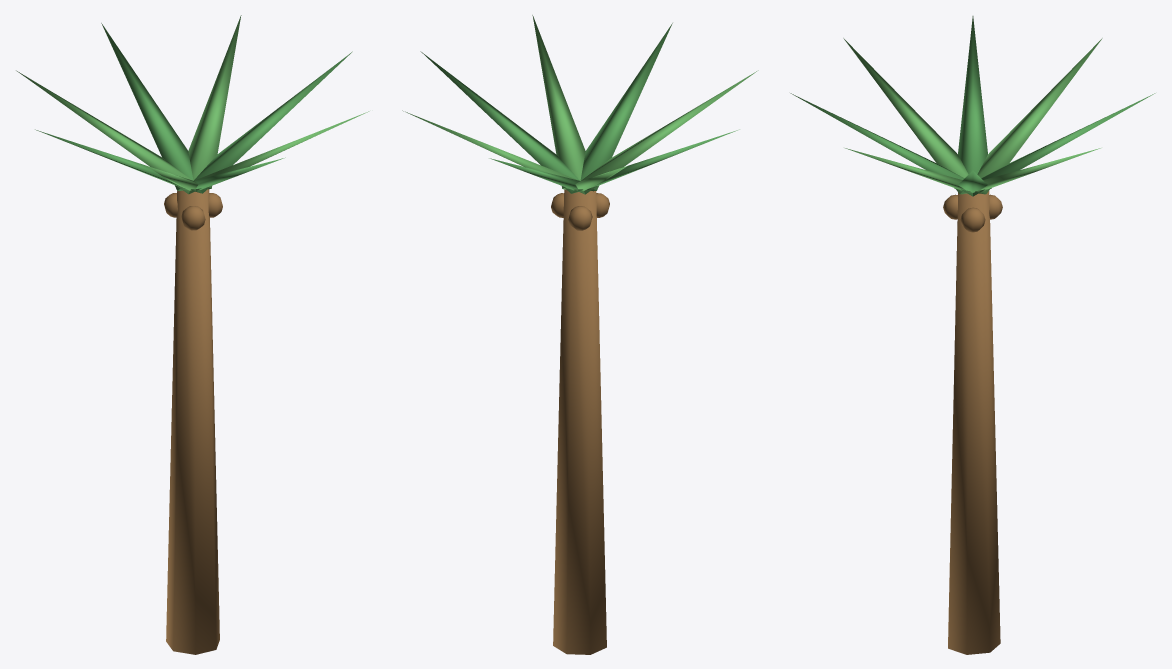
File: xy_nat_palm.glb
3 views of the same model, side by side, from view 1: azimuth 30°, elevation 25°; view 2: azimuth 150°, elevation 25°; view 3: azimuth 270°, elevation 25° (orthographic).
Visible parts, largest first — view 1: xy_nat_palm; view 2: xy_nat_palm; view 3: xy_nat_palm.
Boxes of the visible parts, x1,y1,x2,y2 form: xy_nat_palm: (16,15,369,654); xy_nat_palm: (402,15,758,654); xy_nat_palm: (790,16,1155,654).
Bounding box in the file's own units: 2.94 × 4.85 × 2.94.
